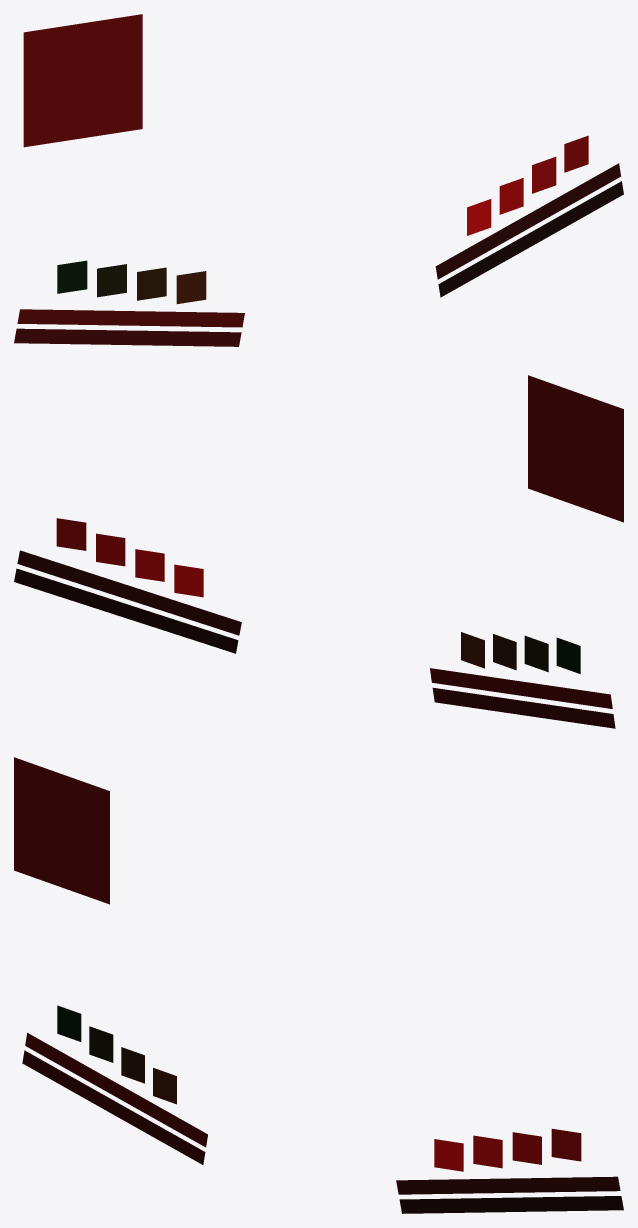
File: HealthHud.fbx
3 renders of one model, top to bottom at view 1: azimuth 30°, elevation 25°; view 2: azimuth 150°, elevation 25°; view 3: azimuth 330°, elevation 25°, orthographic.
Visible parts, largest first — view 1: Plane.004; view 2: Plane.004; view 3: Plane.004.
Part boxes in pixels (x1,y1,x2,y2): Plane.004: (14,14,623,346); Plane.004: (14,375,623,728); Plane.004: (14,757,623,1213).
Size of the model in its own units: 1.67 by 0.9277 by 0.101.
